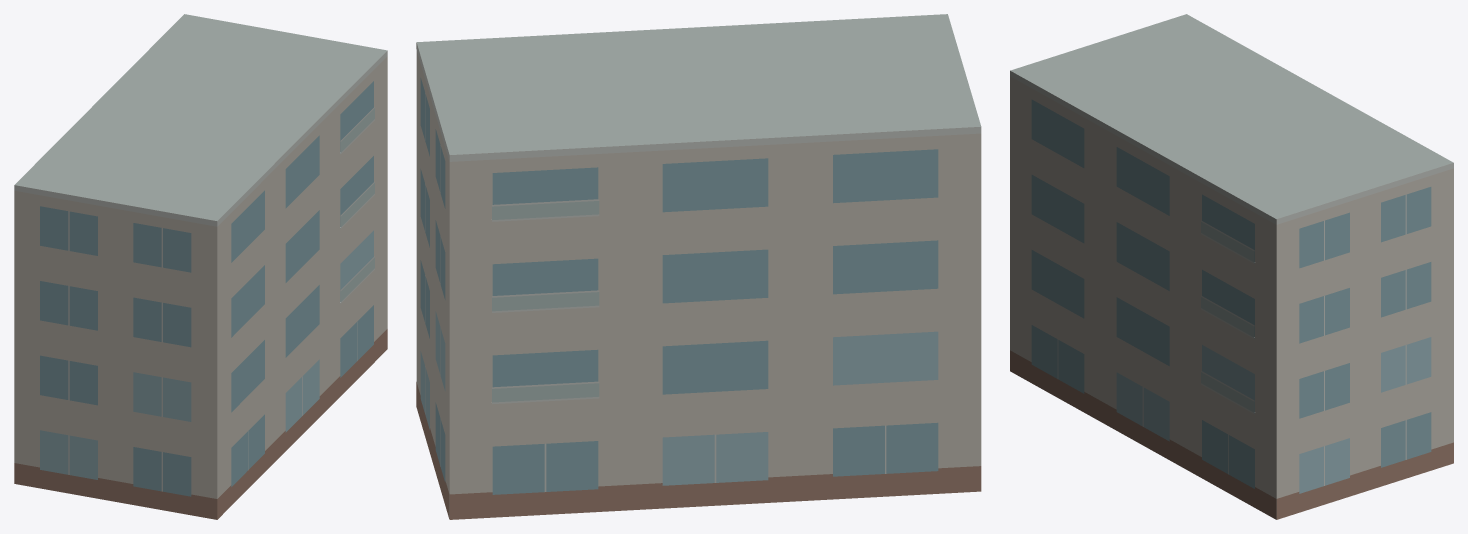
File: survey-upis-32914338.glb
The picture shows the model from 3 angles, left to right: view 1: azimuth 30°, elevation 25°; view 2: azimuth 150°, elevation 25°; view 3: azimuth 270°, elevation 25°; orthographic projection. The views are drawn at different scales.
Visible parts, largest first — view 1: survey-upis-32914338.tmp; view 2: survey-upis-32914338.tmp; view 3: survey-upis-32914338.tmp.
Boxes of the visible parts, bbox=[...] form: survey-upis-32914338.tmp: bbox=[14, 14, 387, 519]; survey-upis-32914338.tmp: bbox=[416, 14, 981, 519]; survey-upis-32914338.tmp: bbox=[1010, 14, 1453, 519].
Size of the model in its own units: 19.19 by 13.1 by 17.53.
